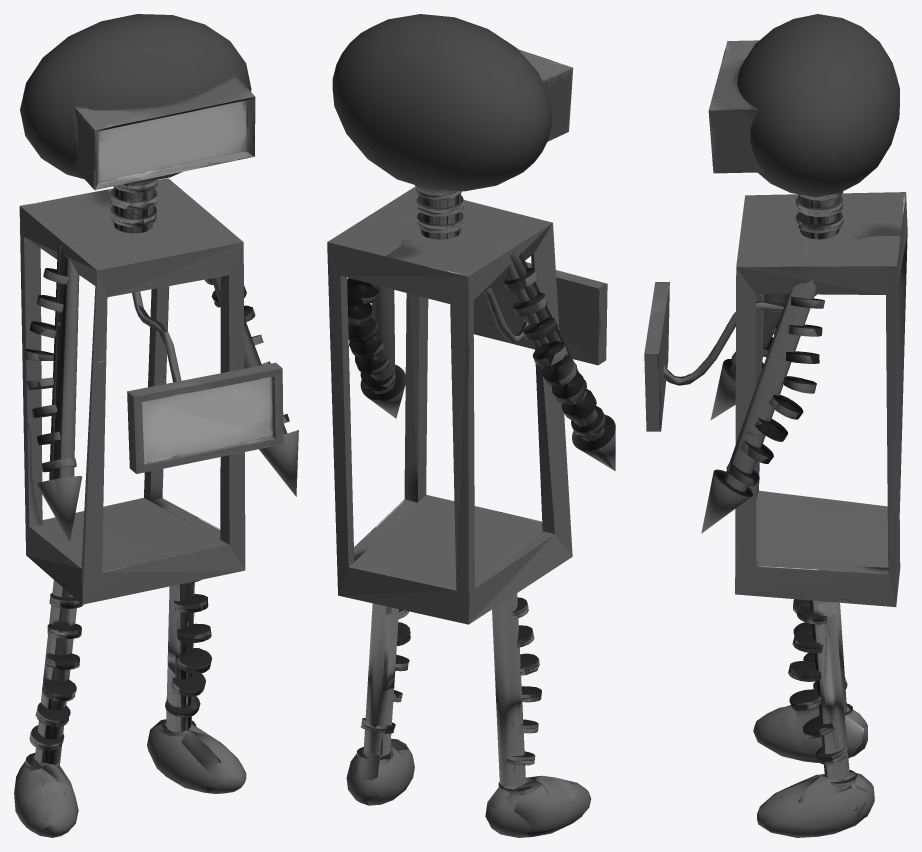
File: facade.glb
3 renders of one model, left to right at view 1: azimuth 30°, elevation 25°; view 2: azimuth 150°, elevation 25°; view 3: azimuth 270°, elevation 25°, orthographic.
Visible parts, largest first — view 1: Cylinder.001; view 2: Cylinder.001; view 3: Cylinder.001.
Part boxes in pixels (left/top/right/bottom): Cylinder.001: left=14, top=14, right=298, bottom=837; Cylinder.001: left=327, top=14, right=615, bottom=837; Cylinder.001: left=644, top=14, right=907, bottom=837.
Bounding box in the file's own units: 3.44 × 10.09 × 3.11.
1 material, 1 textured.
